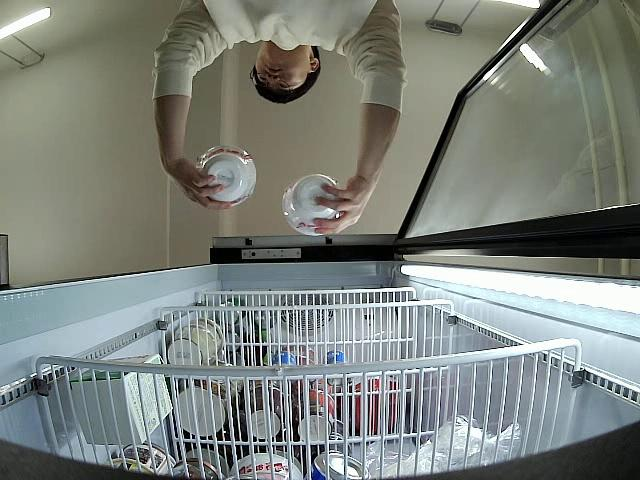00_hand: (171, 161, 236, 210), (312, 180, 360, 237)
09_yukGaeJang: (282, 173, 341, 237), (197, 147, 256, 205)
